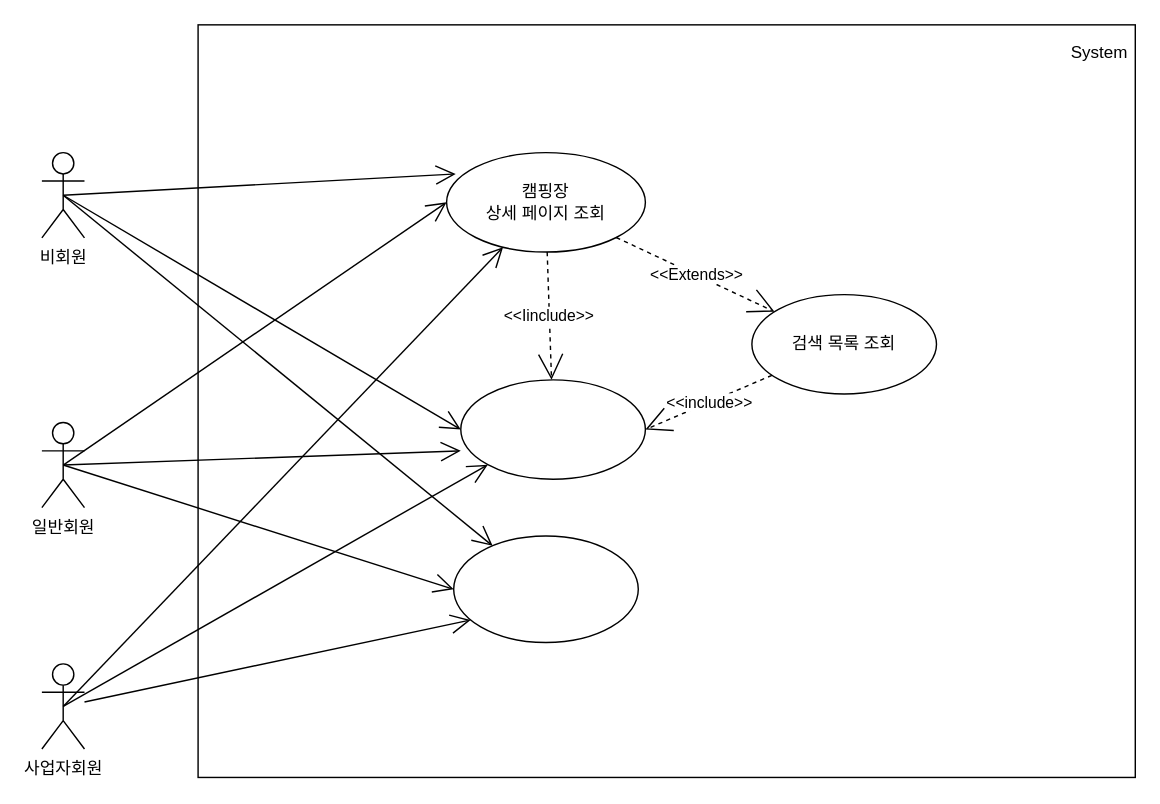
The diagram is 1160 pixels wide and 804 high, and some of its shapes have lost their labels. The shapes that lost their labels are listed below. From the top down, each one's box as (x1, y1, x2, y2) in pixels, then its label:
(459, 378, 645, 479): 캠핑장 검색
(452, 535, 638, 643): 고객센터 페이지 조회
